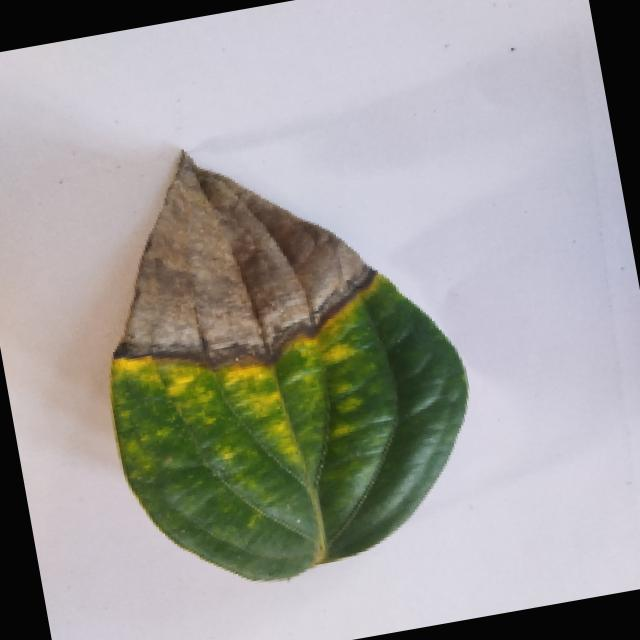footrot: (68, 108, 494, 608)
